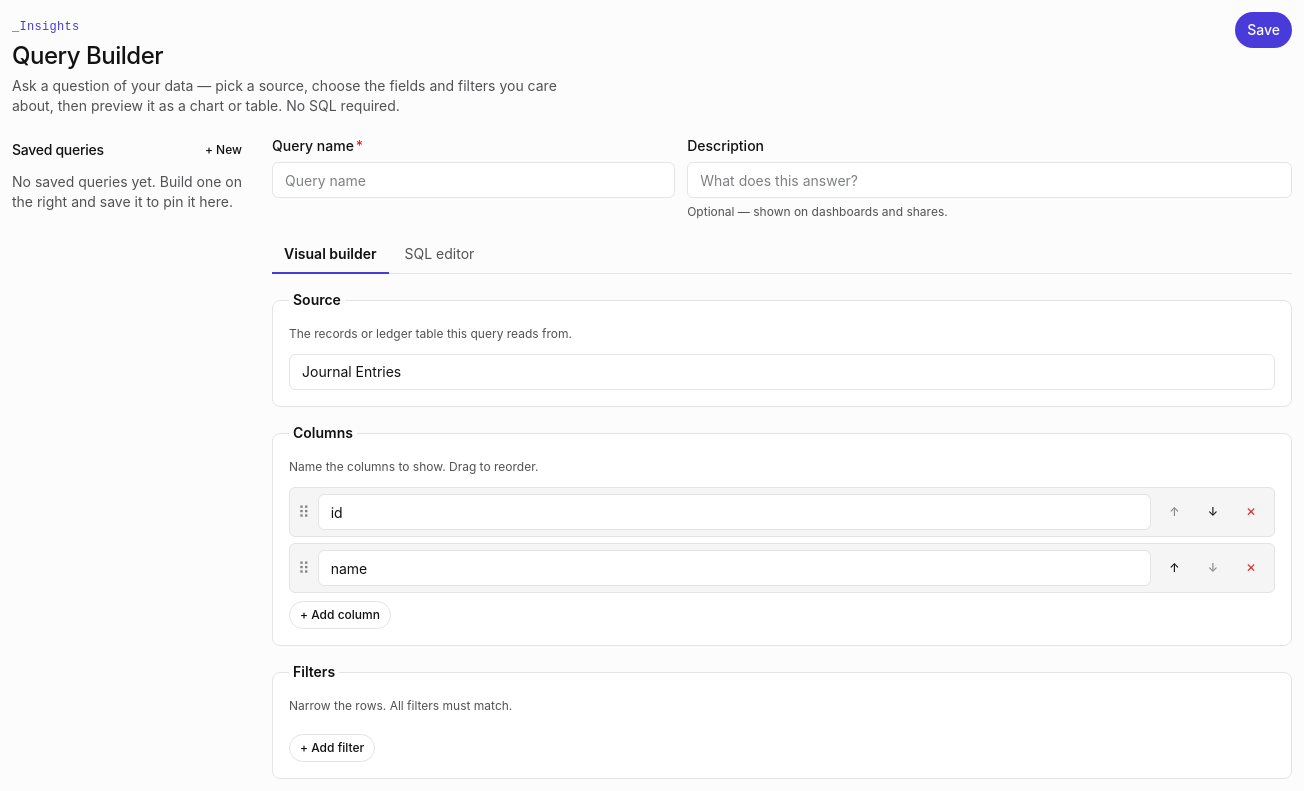
Test: InsightsQueryBuilderPage › Add column appends a row to the columns editor
Check: the field showing "id" is shown, box x1=318 y1=494 x2=1151 y2=530
Check: the field showing "name" is shown, box x1=318 y1=550 x2=1151 y2=586
Click the button "+ Add column": (340, 615) x1=289 y1=601 x2=391 y2=629
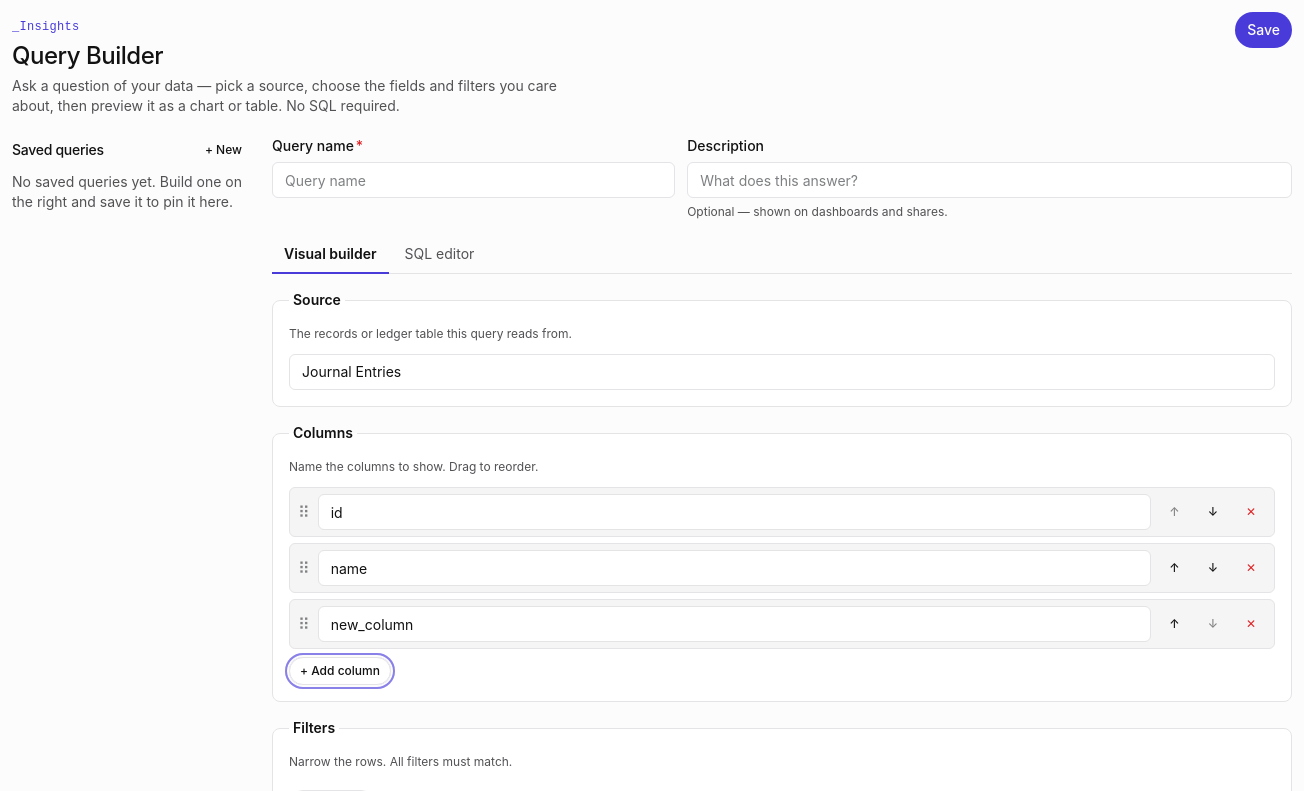
Check: the field showing "new_column" is shown, box x1=318 y1=606 x2=1151 y2=642
